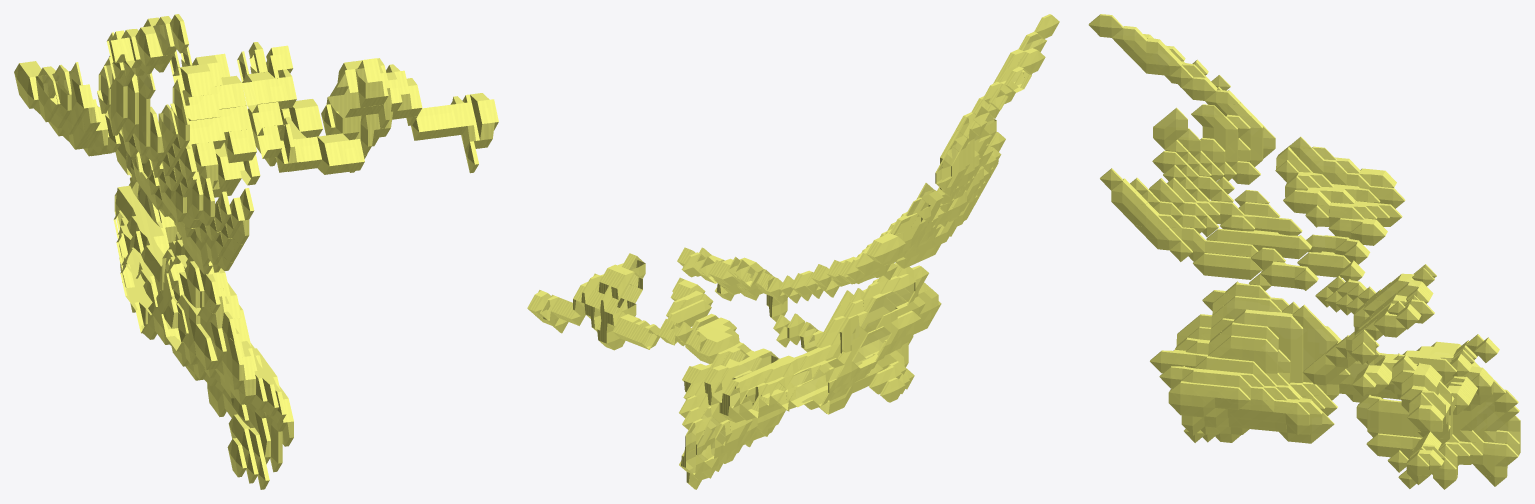
File: SVV_BWM-DR08.gltf
3 views of the same model, side by side, from view 1: azimuth 30°, elevation 25°; view 2: azimuth 150°, elevation 25°; view 3: azimuth 270°, elevation 25° (orthographic). The views are drawn at different scales.
Parts seen in each view (by area): view 1: BWM-DR08; view 2: BWM-DR08; view 3: BWM-DR08.
Boxes of the visible parts, x1,y1,x2,y2 form: BWM-DR08: [14, 14, 498, 489]; BWM-DR08: [527, 14, 1059, 489]; BWM-DR08: [1088, 14, 1520, 489].
Size of the model in its own units: 24339 by 23745 by 23911.
